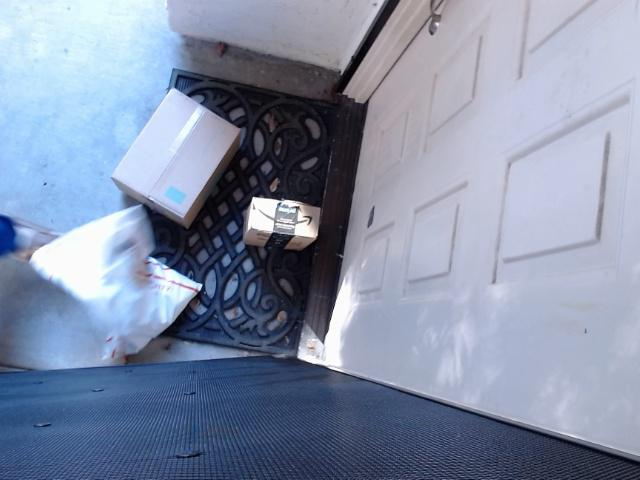box: (117, 71, 252, 235), (230, 184, 337, 255)
plastic_bag: (0, 216, 198, 371)
